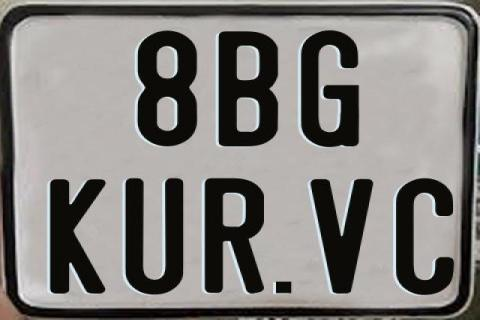0: (134, 30, 200, 150)
B: (216, 31, 280, 148)
C: (395, 178, 453, 298)
G: (300, 28, 360, 146)
K: (48, 177, 107, 293)
R: (202, 177, 263, 293)
U: (125, 177, 187, 297)
V: (308, 177, 376, 293)
